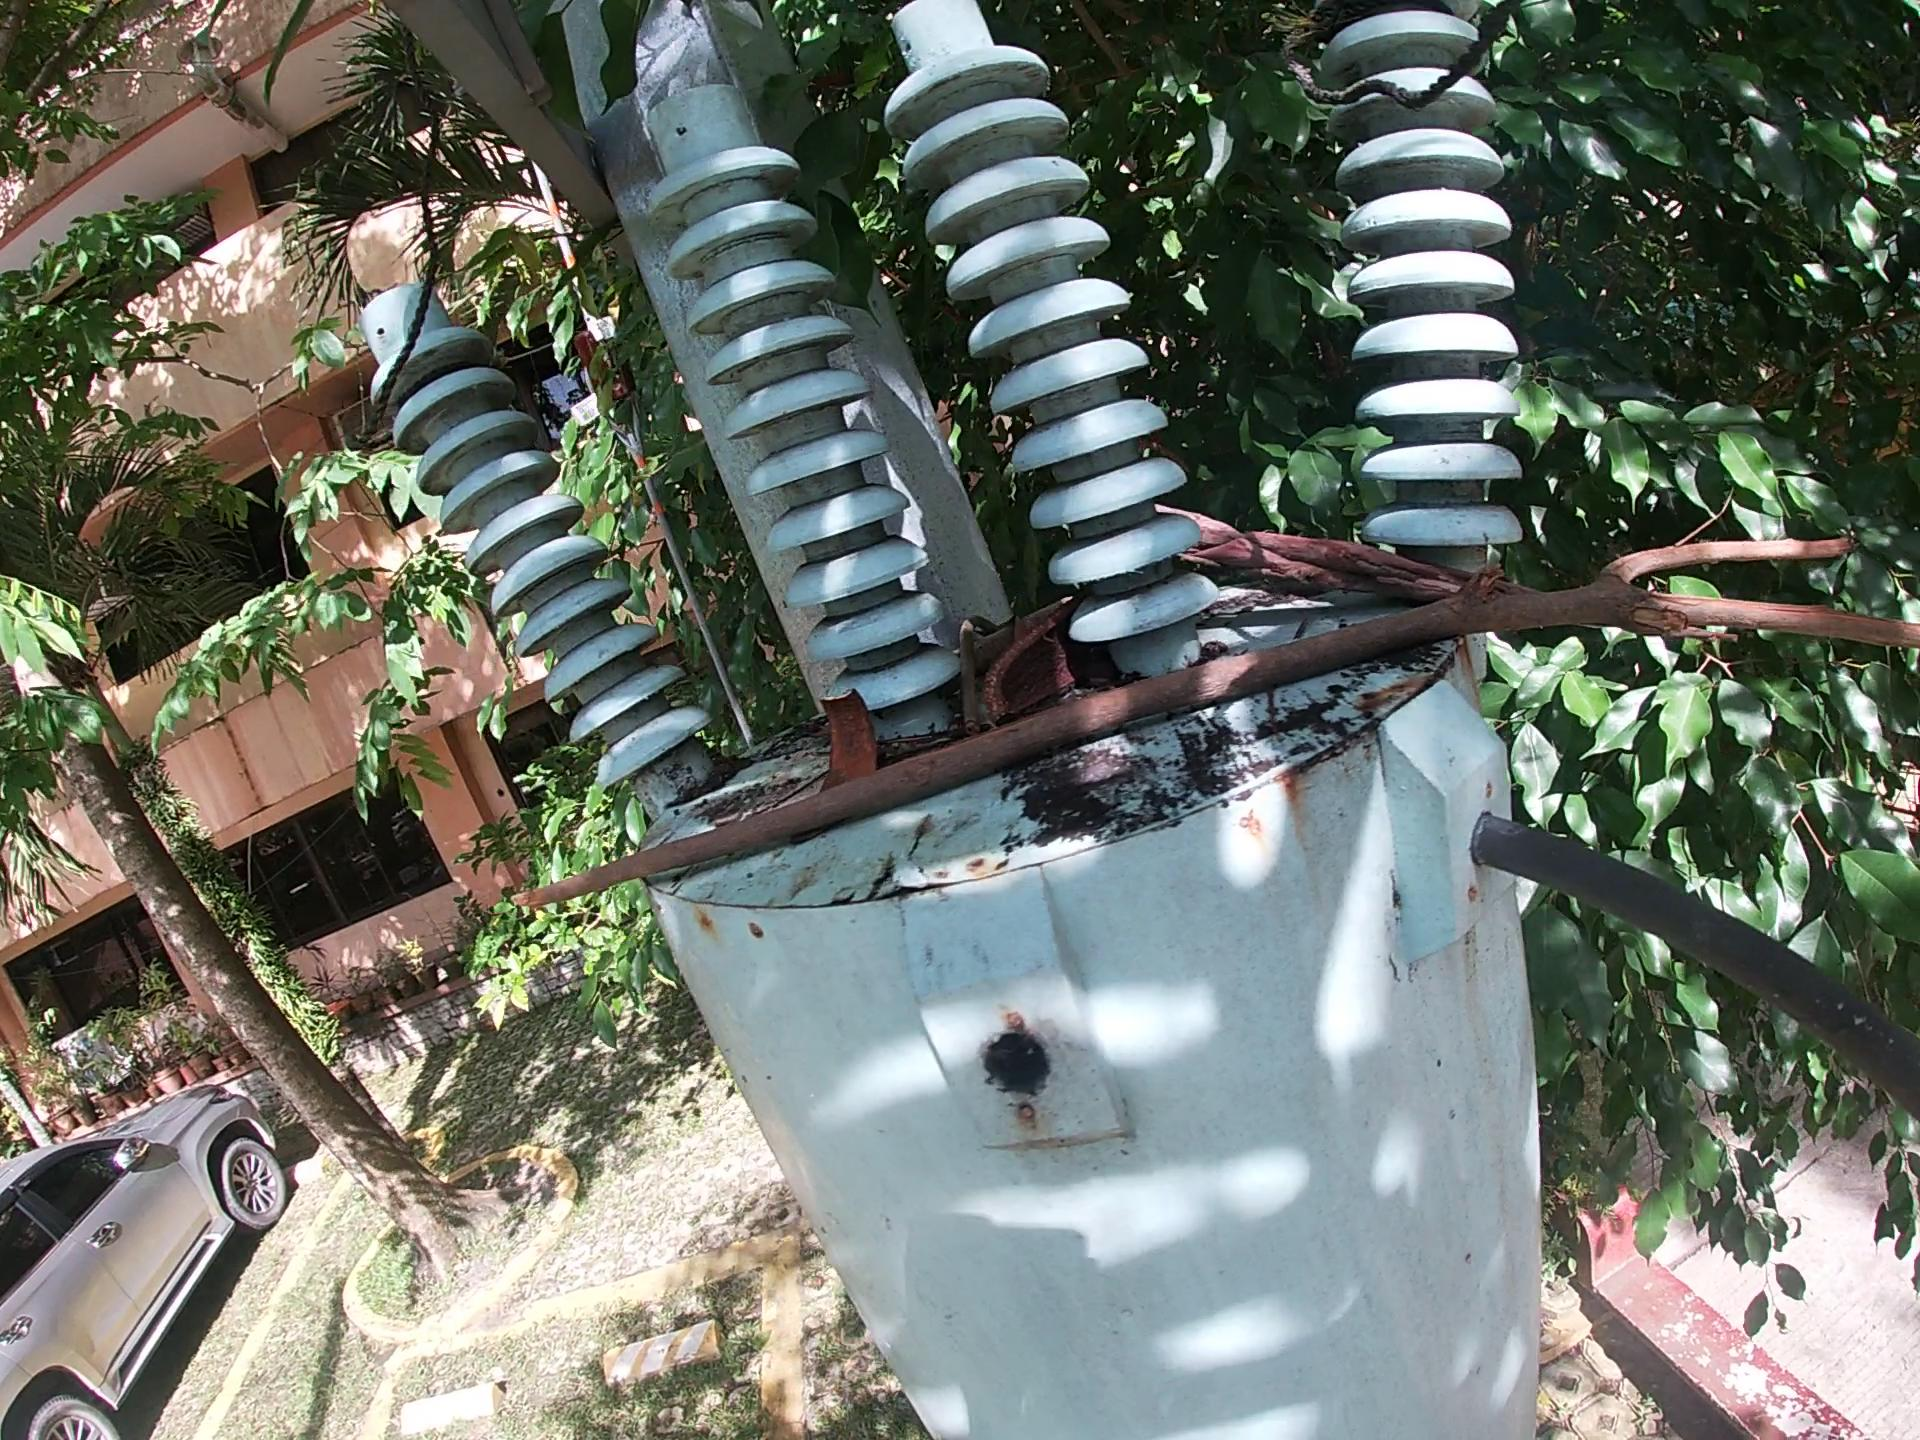mahogany fruit: (983, 610, 1098, 744), (813, 687, 880, 793)
tree branch: (485, 510, 1920, 945), (1166, 495, 1731, 658), (946, 602, 996, 752)
